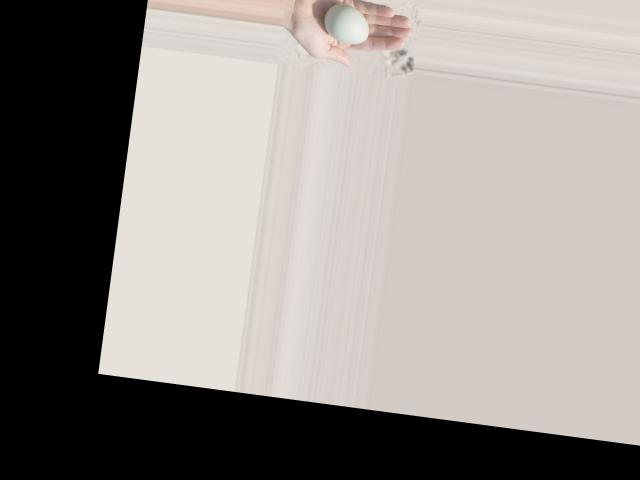egg: (323, 2, 373, 45)
